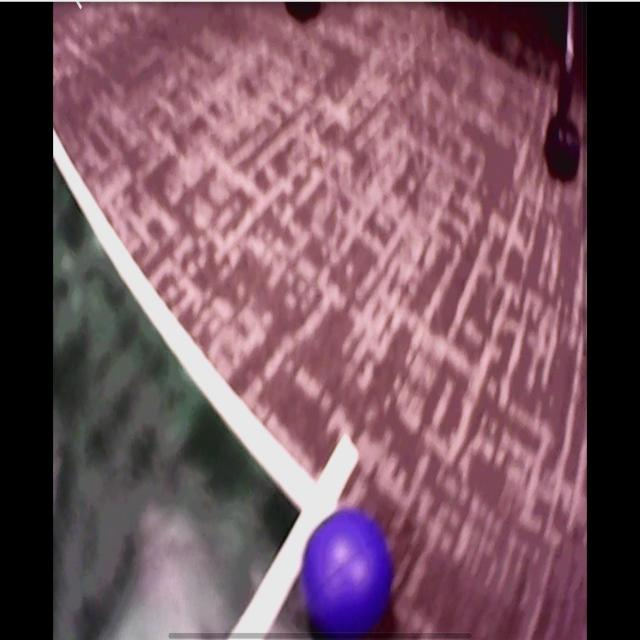ball: (302, 511, 392, 635)
